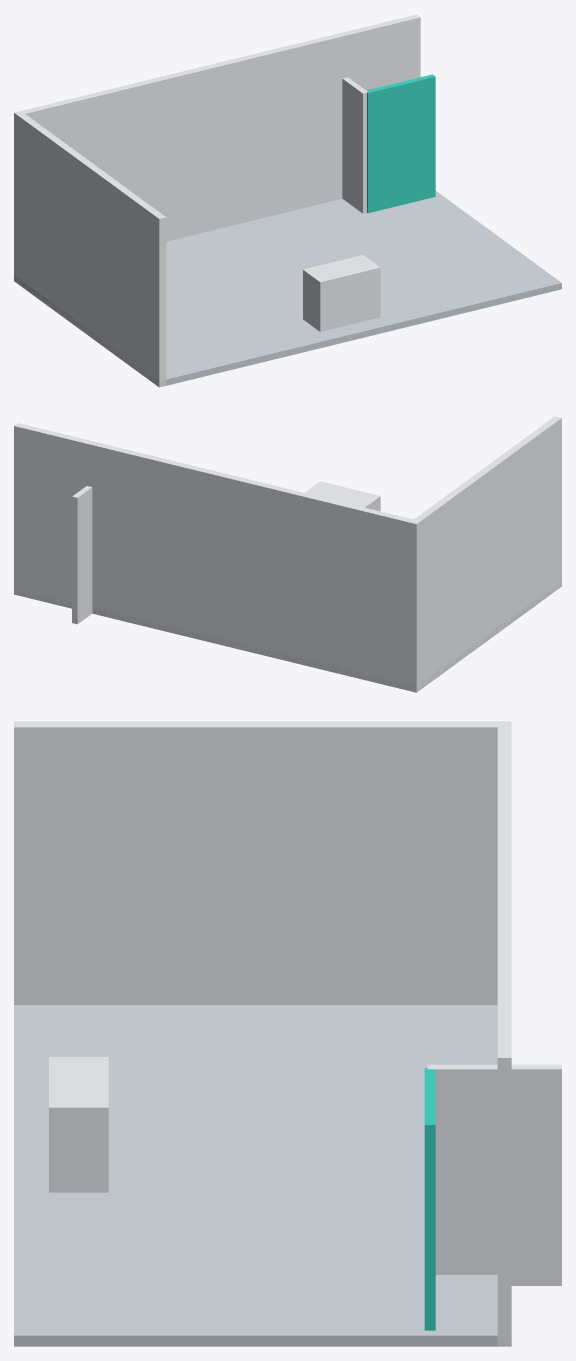
The picture shows the model from 3 angles, top to bottom: view 1: azimuth 30°, elevation 25°; view 2: azimuth 150°, elevation 25°; view 3: azimuth 270°, elevation 25°; orthographic projection. The views are drawn at different scales.
Visible parts, largest first — view 1: Exhibition Booth Concept; view 2: Exhibition Booth Concept; view 3: Exhibition Booth Concept.
Boxes of the visible parts, <box> form: Exhibition Booth Concept: <box>14,14,561,387</box>; Exhibition Booth Concept: <box>14,416,561,692</box>; Exhibition Booth Concept: <box>14,721,561,1346</box>.
Size of the model in its own units: 8 by 3.2 by 5.51.
